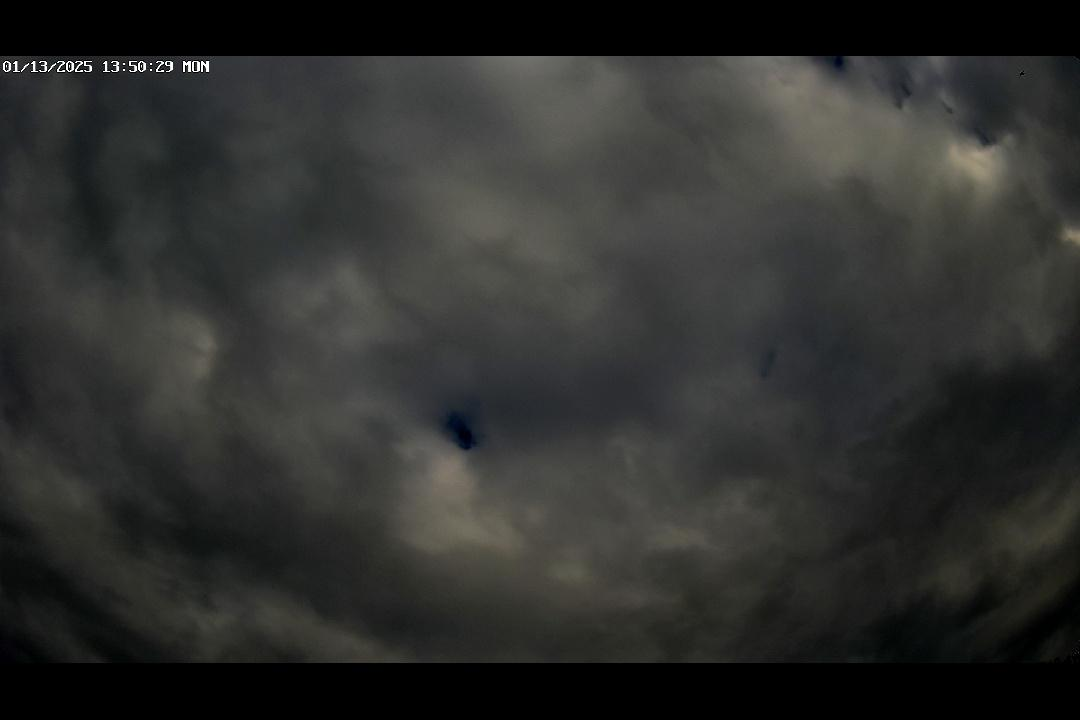WildLife: (1009, 68, 1032, 80)
